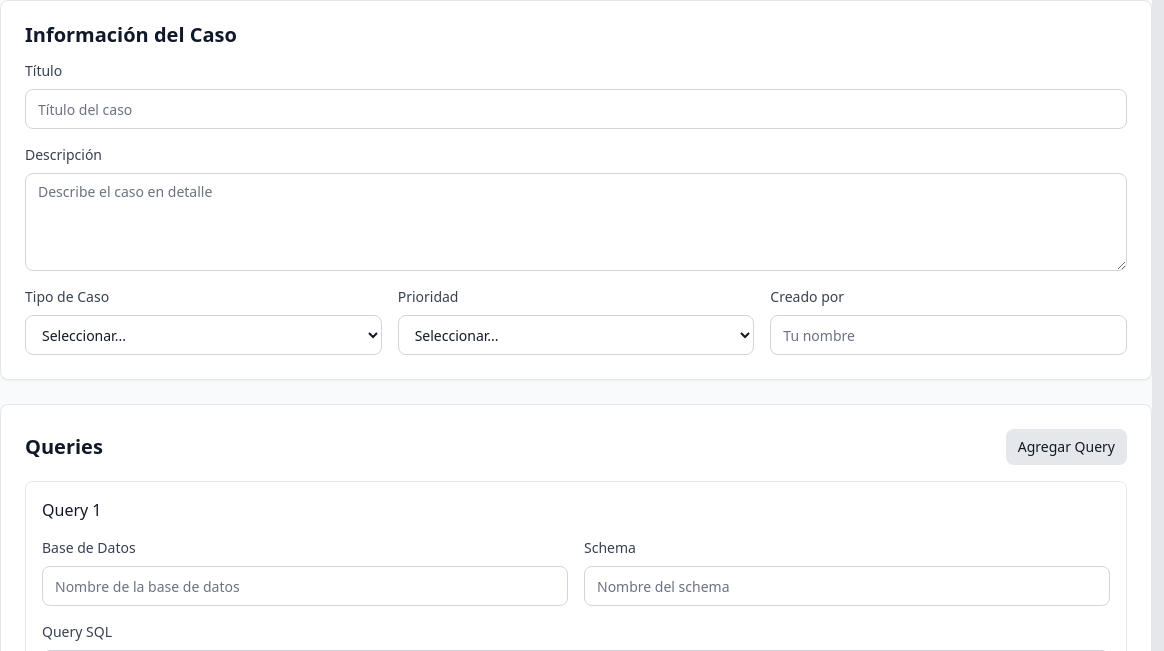
Test: CaseForm › adds new query field when clicking add button
The width and height of the screenshot is (1164, 651).
Click the button "Agregar Query". click: (1066, 447)
box: [1006, 429, 1127, 465]
(page scrolled)
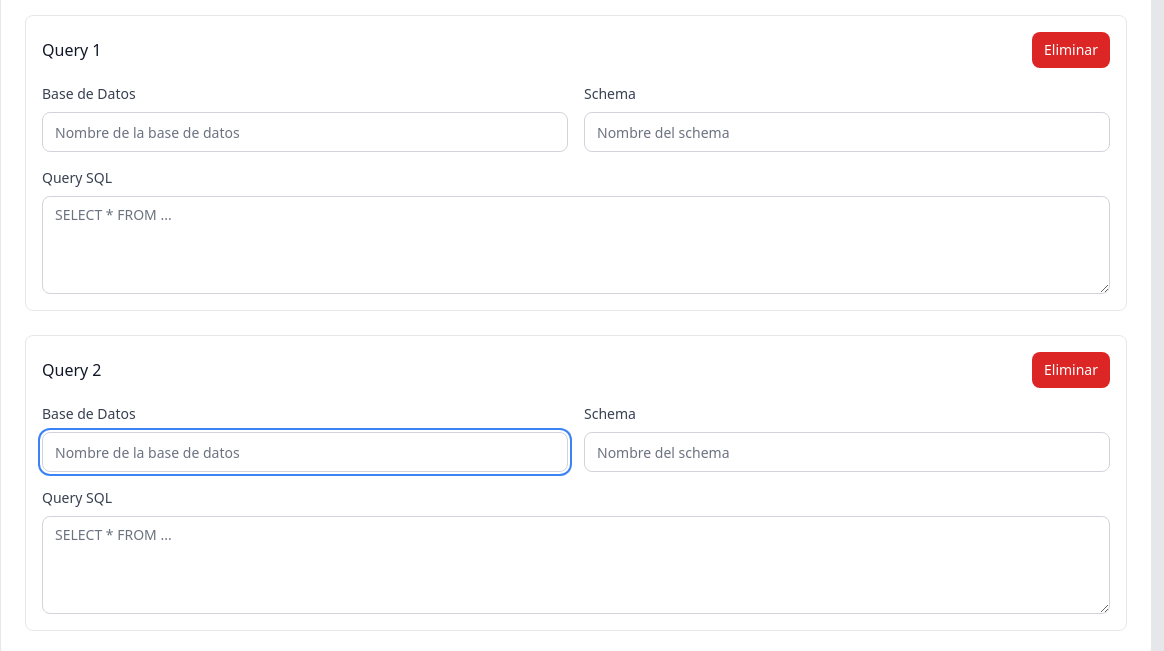
Expected: the heading "Query 1" is shown, [42, 38, 102, 62]
Now the heading "Query 2" is shown, box [42, 358, 102, 382]
